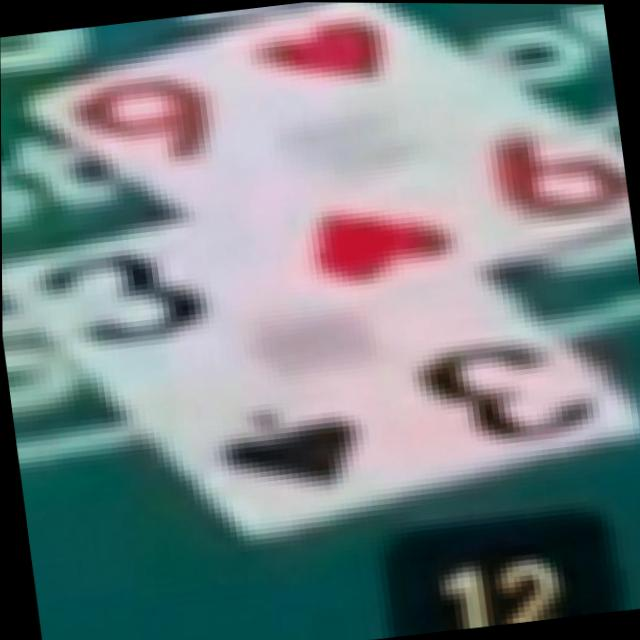Card-3: (2, 221, 640, 540)
Card-9: (25, 2, 627, 313)
